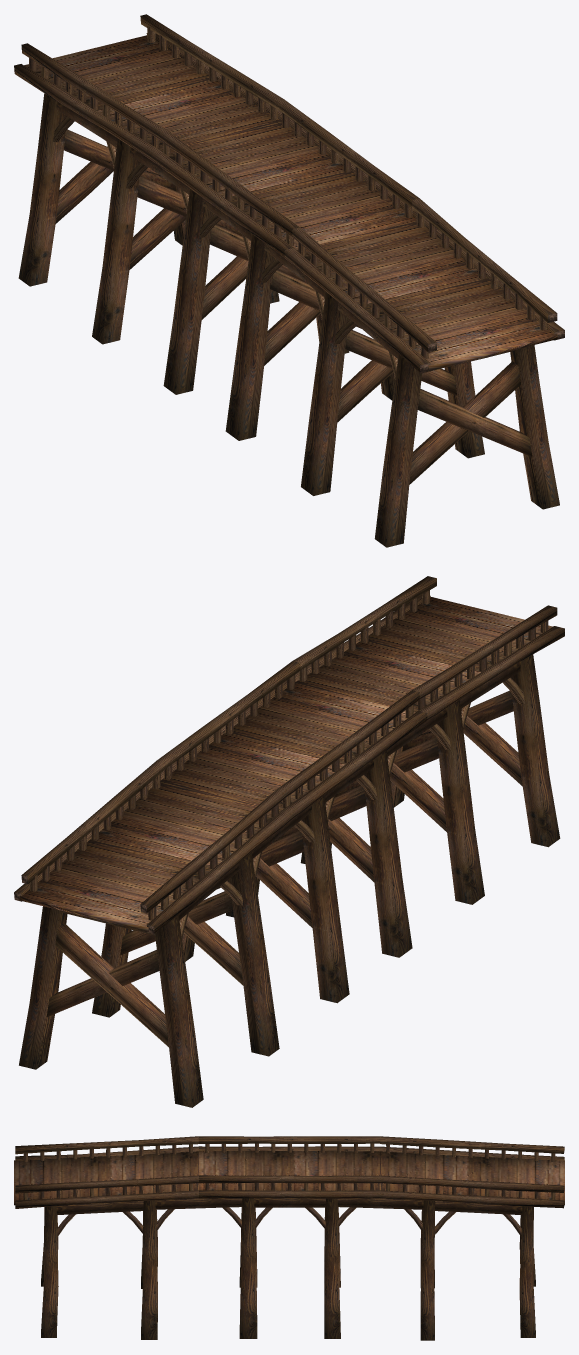
File: long_wood_bridge.glb
The picture shows the model from 3 angles, top to bottom: view 1: azimuth 30°, elevation 25°; view 2: azimuth 150°, elevation 25°; view 3: azimuth 270°, elevation 25°; orthographic projection. The views are drawn at different scales.
Visible parts, largest first — view 1: object_RanchHouse_0; view 2: object_RanchHouse_0; view 3: object_RanchHouse_0.
Boxes of the visible parts, left/top/right/bottom form: object_RanchHouse_0: left=14, top=14, right=564, bottom=547; object_RanchHouse_0: left=14, top=576, right=564, bottom=1107; object_RanchHouse_0: left=14, top=1136, right=564, bottom=1340.
Size of the model in its own units: 8.41 by 10.44 by 33.68.
Materials: 1 (1 with a texture image).
